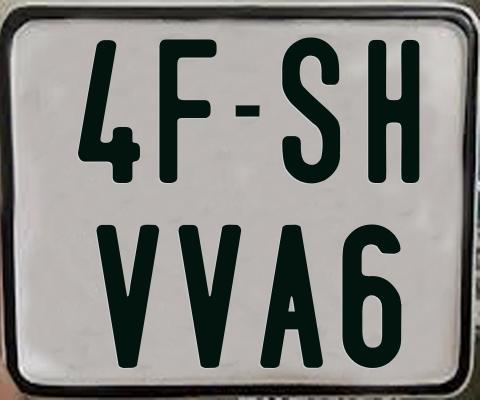4: (75, 37, 141, 183)
6: (342, 223, 405, 371)
A: (259, 225, 328, 372)
F: (157, 38, 216, 185)
H: (368, 37, 426, 181)
S: (281, 35, 341, 186)
V: (93, 222, 159, 368), (177, 225, 240, 374)
